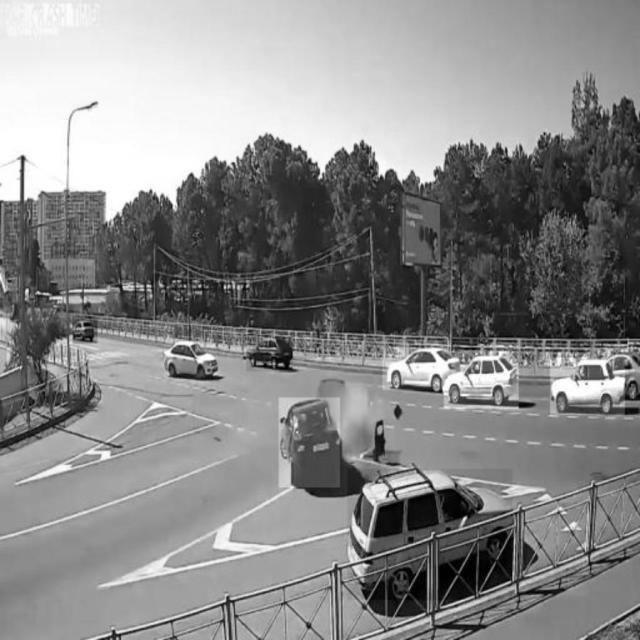vehicle: (347, 469, 513, 600), (279, 398, 340, 488), (550, 358, 624, 415), (444, 352, 518, 409), (383, 348, 447, 390), (164, 337, 218, 379), (247, 335, 293, 372), (73, 317, 98, 344)
